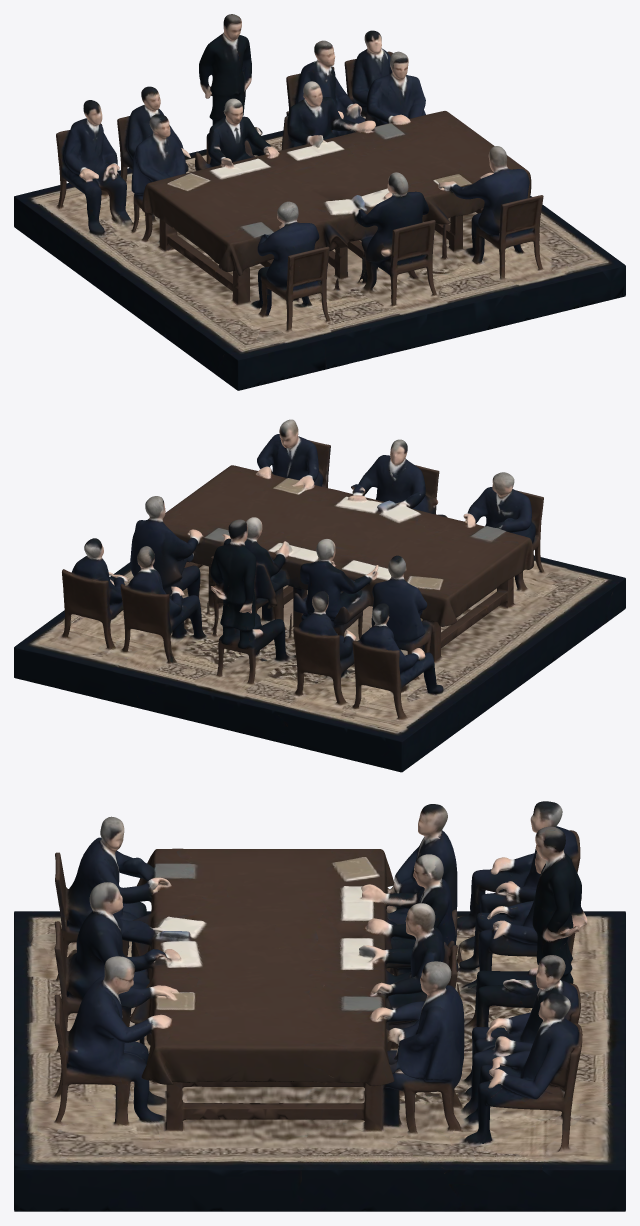
Rendered from dam_phan_pari_1968.glb.
3 renders of one model, top to bottom at view 1: azimuth 30°, elevation 25°; view 2: azimuth 150°, elevation 25°; view 3: azimuth 270°, elevation 25°, orthographic. The views are drawn at different scales.
Bounding box in the file's own units: 1.83 × 0.8339 × 1.83.
Materials: 1 (1 with a texture image).
